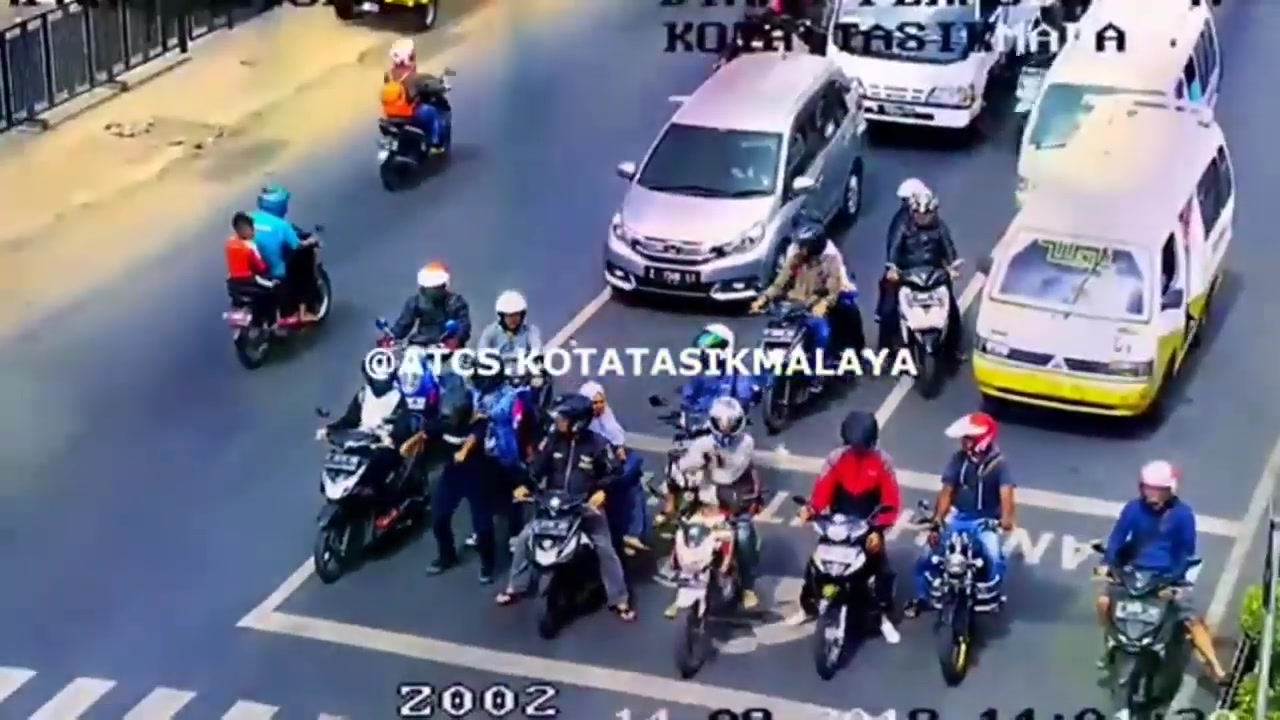person with motorcycle: (1092, 451, 1205, 703), (532, 381, 635, 648), (216, 186, 349, 392), (668, 401, 768, 666), (928, 409, 1019, 685), (801, 399, 895, 665), (361, 36, 481, 201), (892, 181, 961, 402)
